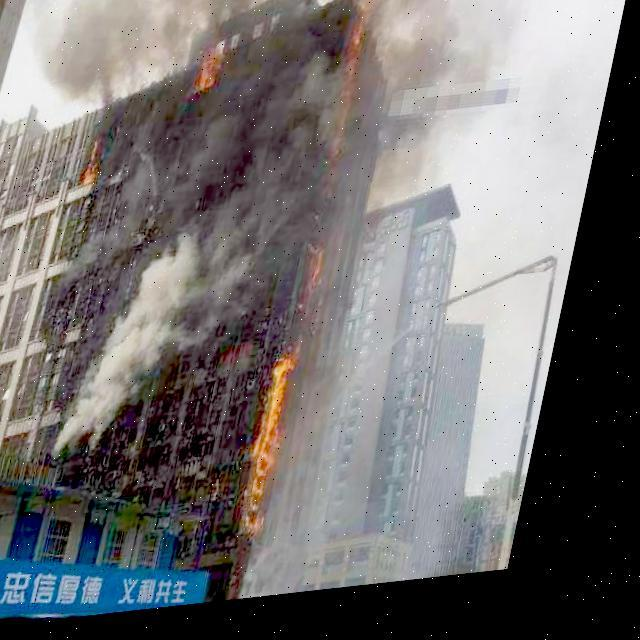Fire: (256, 345, 325, 560), (329, 10, 384, 176), (311, 247, 342, 316), (86, 134, 118, 188), (198, 48, 228, 102)
